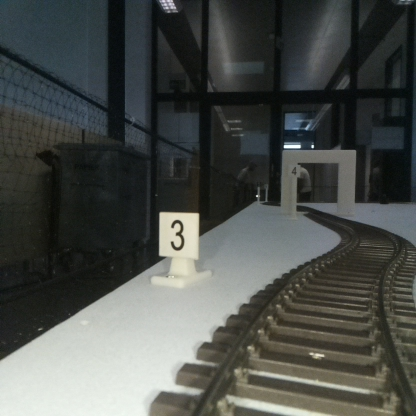white-info-4: (289, 164, 300, 220)
white-stop-3: (159, 213, 199, 284)
